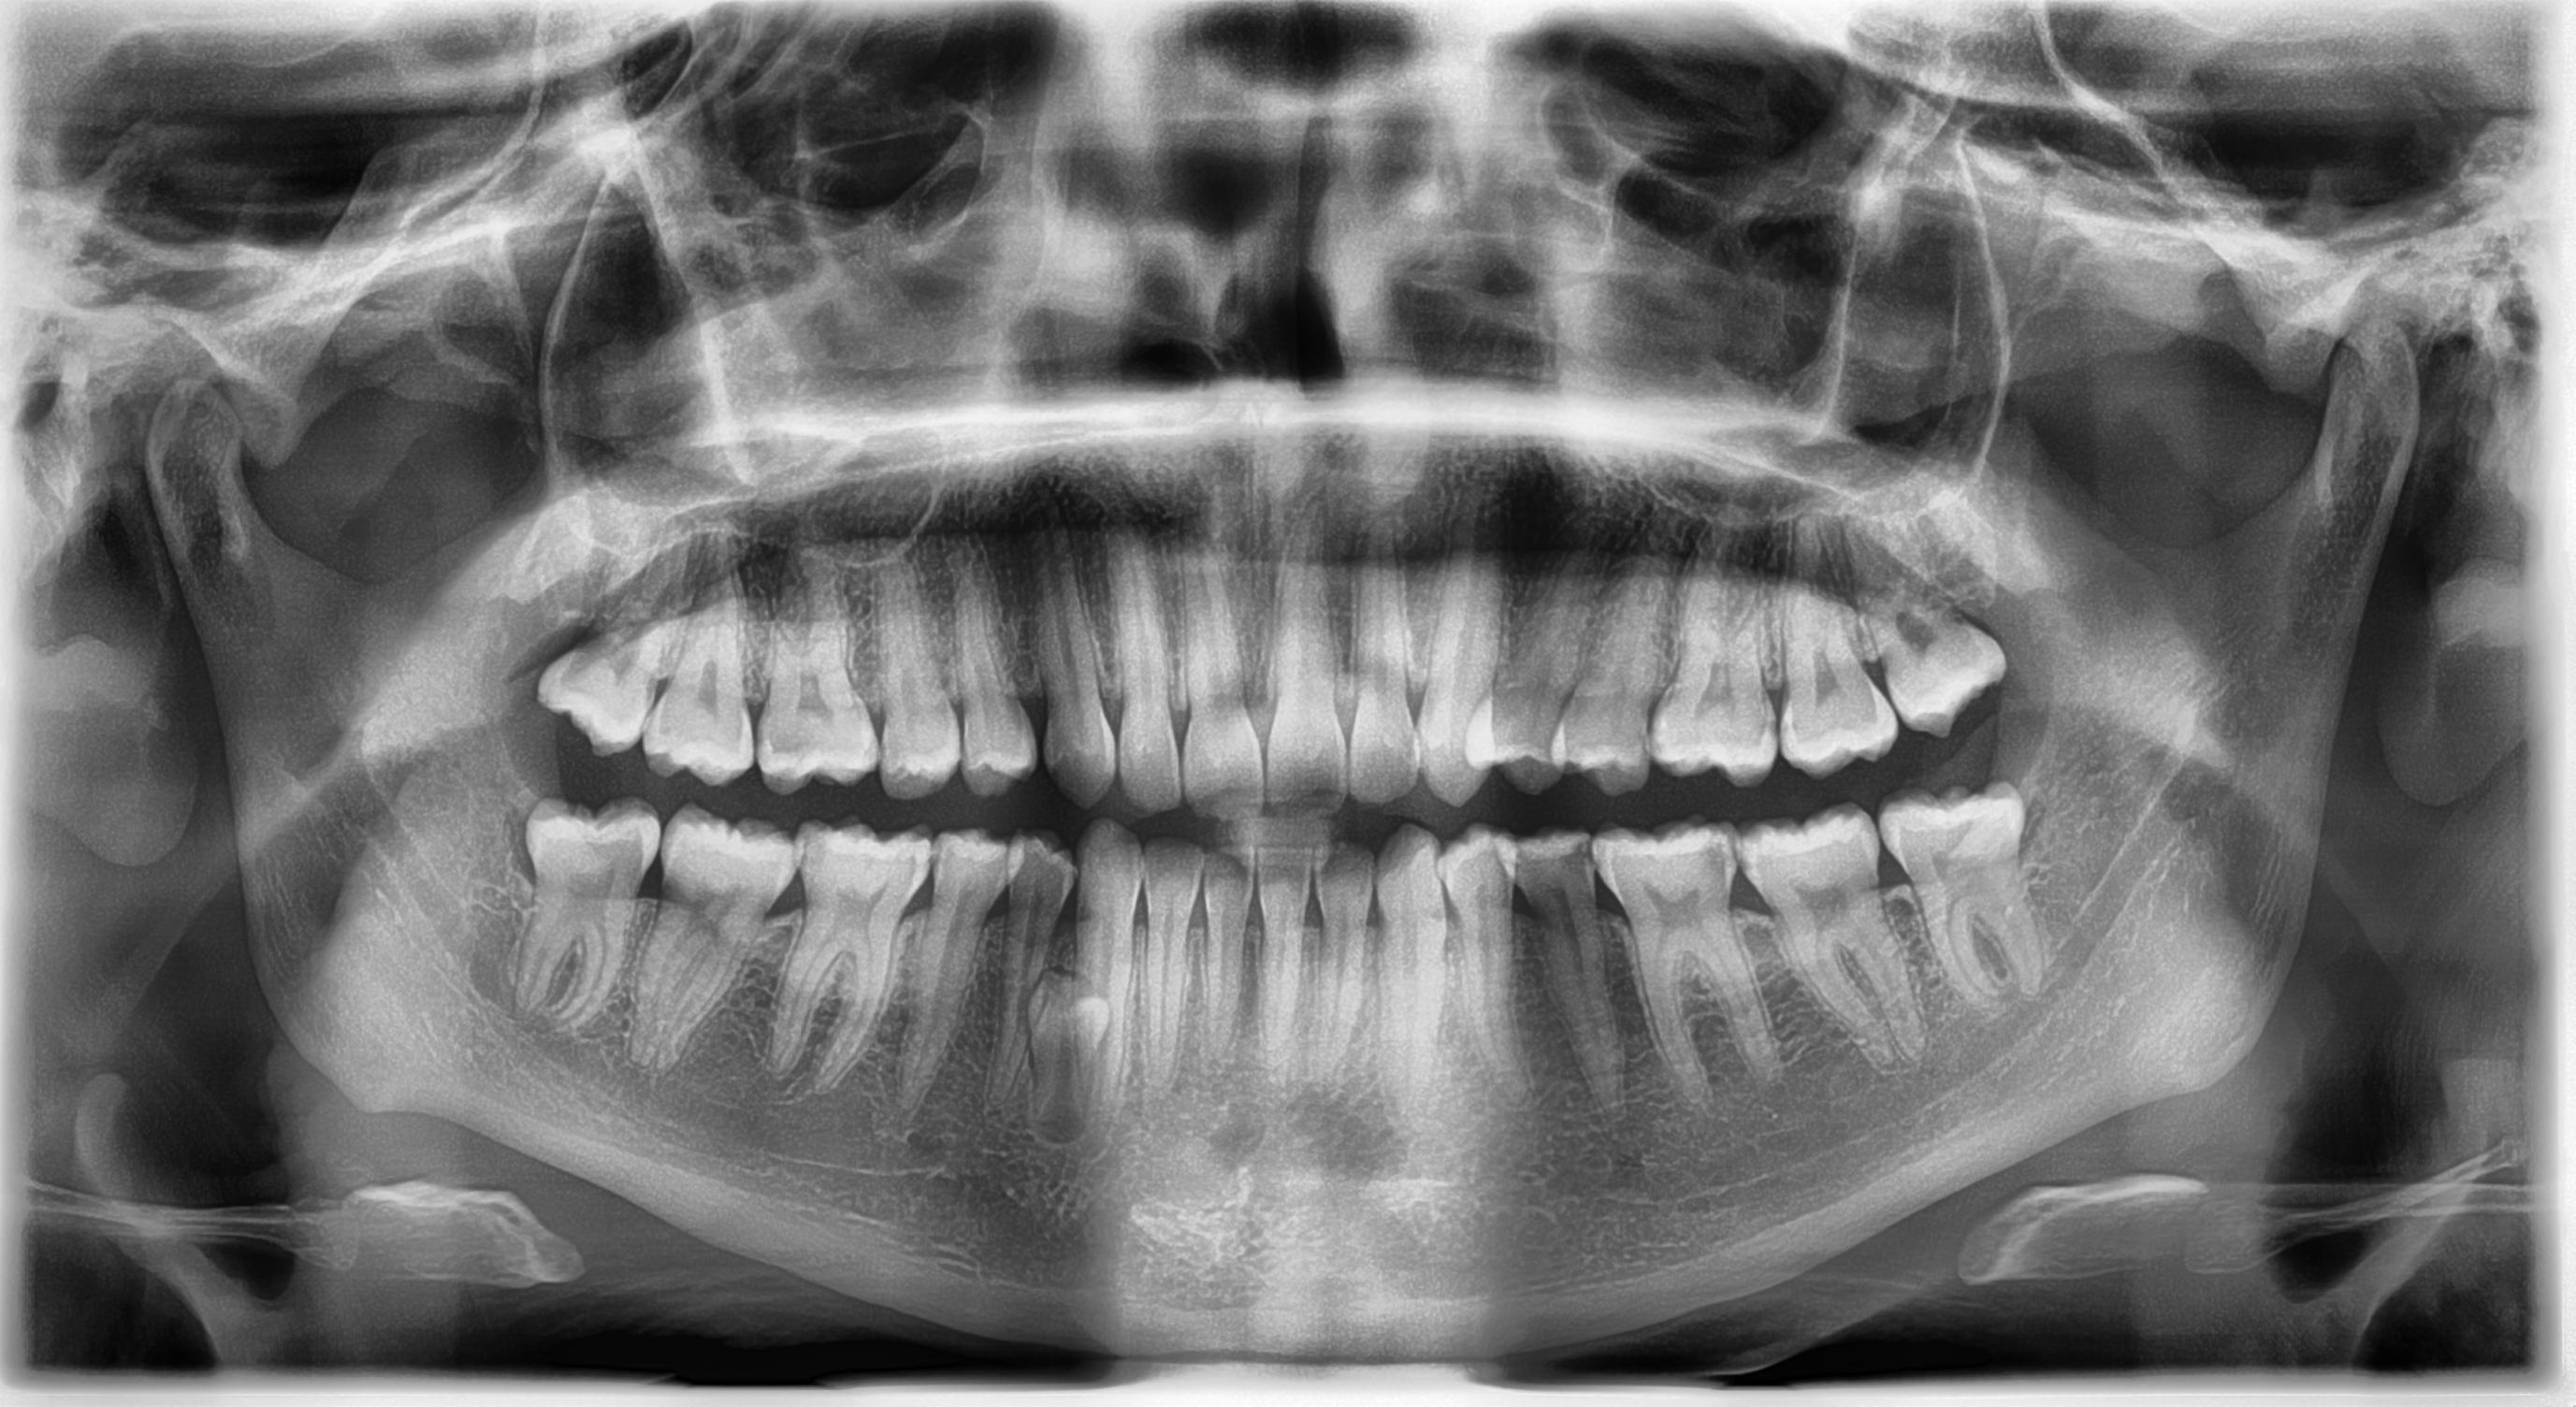apinamiento: (1375, 827, 1635, 934), (1412, 681, 1672, 788)
cordal: (1861, 766, 2093, 1010), (1831, 525, 2063, 769), (459, 792, 689, 1036), (471, 509, 702, 754)
